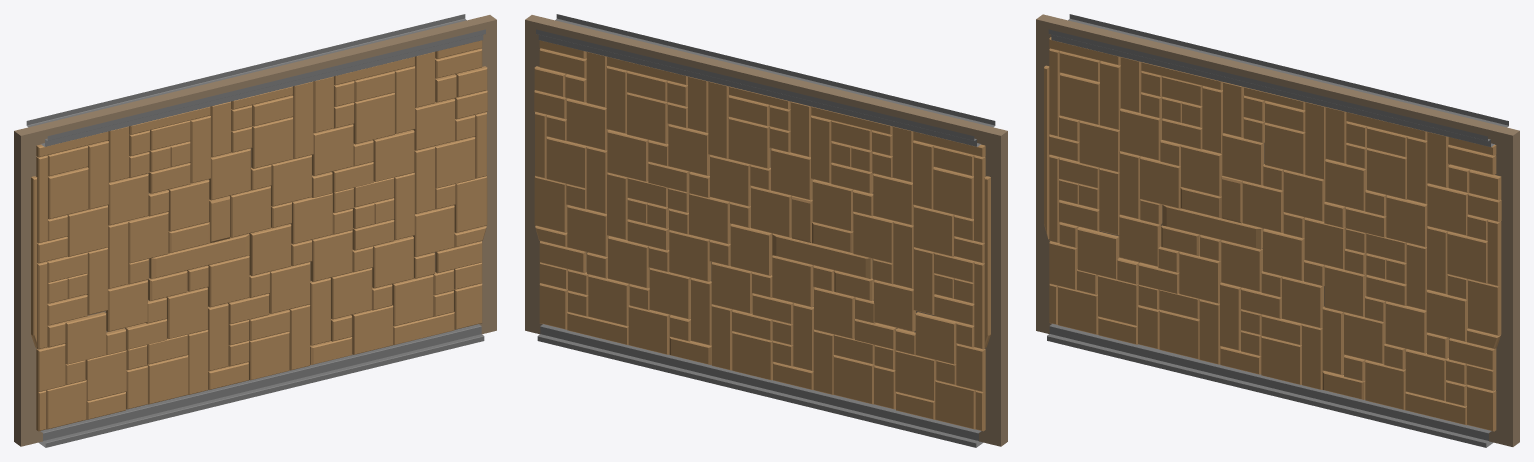
Rendered from wall_double_0.fbx.
3 views of the same model, side by side, from view 1: azimuth 30°, elevation 25°; view 2: azimuth 150°, elevation 25°; view 3: azimuth 330°, elevation 25° (orthographic).
Visible parts, largest first — view 1: wall_double_0; view 2: wall_double_0; view 3: wall_double_0.
Boxes of the visible parts, box(x1,y1,x2,y2) form: wall_double_0: box(14, 14, 496, 447); wall_double_0: box(525, 14, 1007, 447); wall_double_0: box(1036, 14, 1519, 447).
Size of the model in its own units: 157 by 11.99 by 98.43.
